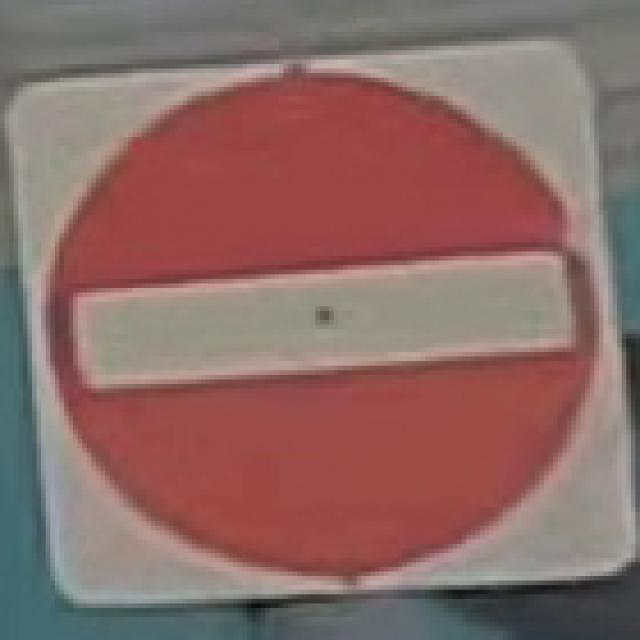noentry_sign: (0, 32, 635, 608)
